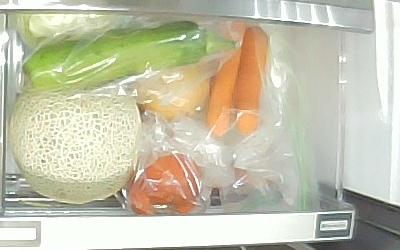cabbage: (18, 14, 119, 47)
carrot_vinyl: (233, 27, 269, 135), (206, 46, 242, 139)
melon: (11, 91, 141, 206)
pear_vinyl: (136, 61, 210, 119)
tomato_vinyl: (125, 152, 203, 215)
zucchini_vinyl: (21, 21, 239, 93)
